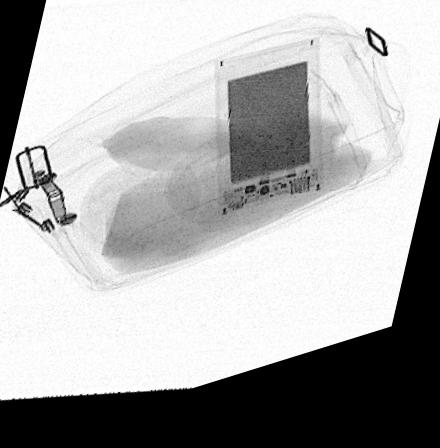Powerbank: (213, 55, 323, 229)
